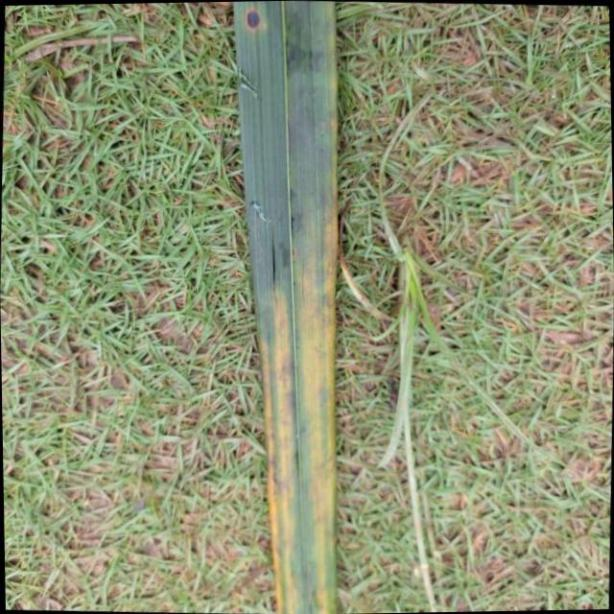Megnesium: (234, 0, 340, 614)
